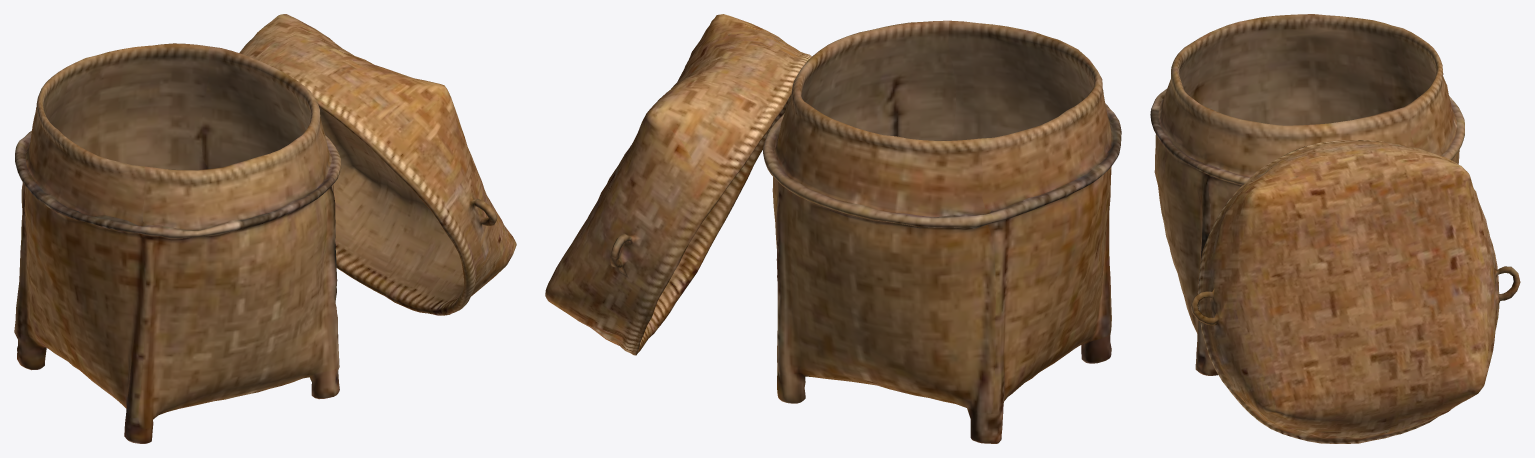
Rendered from wicker_basket_02.glb.
The picture shows the model from 3 angles, left to right: view 1: azimuth 30°, elevation 25°; view 2: azimuth 150°, elevation 25°; view 3: azimuth 270°, elevation 25°; orthographic projection. The views are drawn at different scales.
Parts seen in each view (by area): view 1: wicker_basket_02_base; view 2: wicker_basket_02_base; view 3: wicker_basket_02_base.
Boxes of the visible parts, x1,y1,x2,y2 form: wicker_basket_02_base: (14,14,516,443); wicker_basket_02_base: (545,14,1121,443); wicker_basket_02_base: (1150,14,1520,443).
Size of the model in its own units: 0.3469 by 0.2005 by 0.2545.
1 material, 1 textured.
